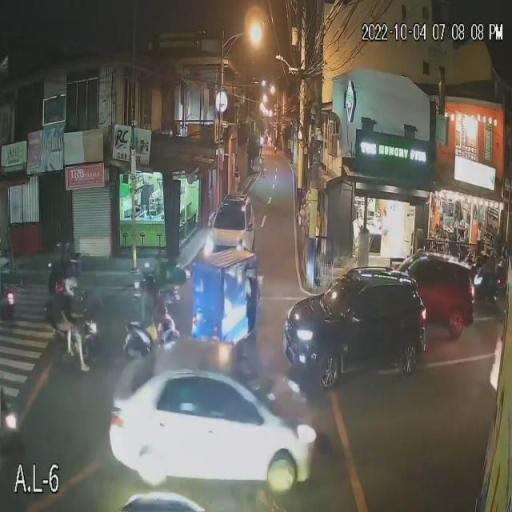helmet: (64, 278, 80, 298), (141, 277, 154, 294), (52, 280, 64, 296)
motorcycle: (126, 308, 181, 364), (46, 318, 108, 362)
rider: (63, 278, 82, 347), (137, 279, 156, 337), (52, 278, 65, 331)
